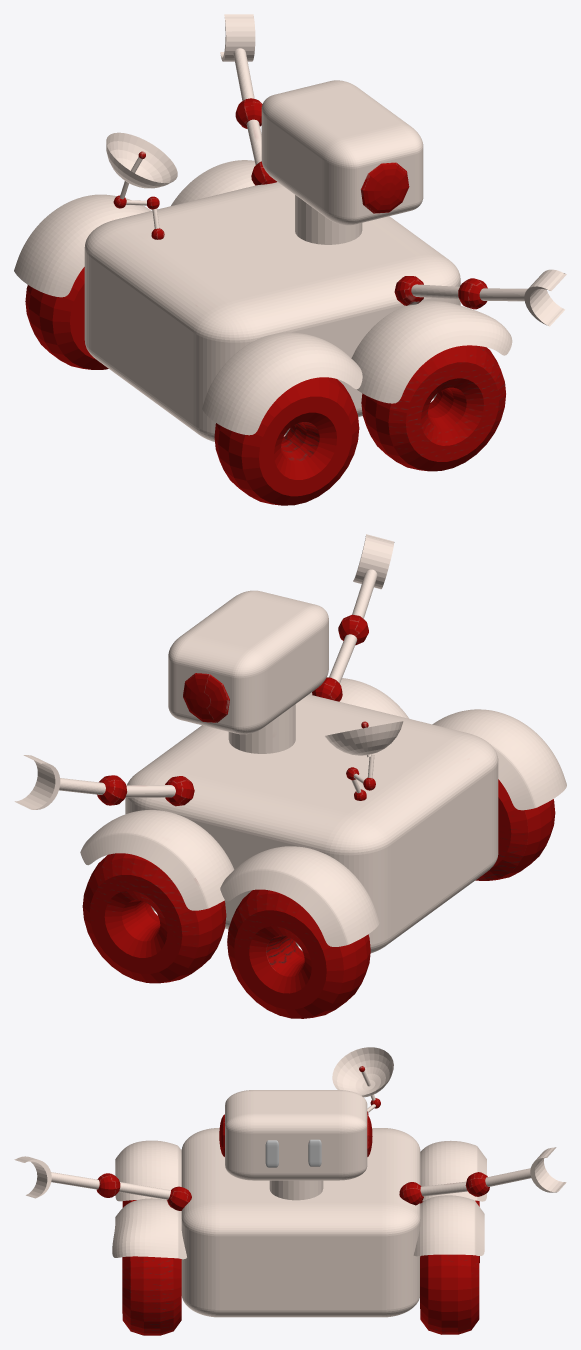
File: rover_red.obj
3 renders of one model, top to bottom at view 1: azimuth 30°, elevation 25°; view 2: azimuth 150°, elevation 25°; view 3: azimuth 270°, elevation 25°, orthographic. The views are drawn at different scales.
Visible parts, largest first — view 1: Body_Rover_Baked_Textures; view 2: Body_Rover_Baked_Textures; view 3: Body_Rover_Baked_Textures, Body_.
Part boxes in pixels (x1=…): Body_Rover_Baked_Textures: x1=14, y1=14, x2=566, y2=505; Body_Rover_Baked_Textures: x1=14, y1=534, x2=566, y2=1018; Body_Rover_Baked_Textures: x1=14, y1=1047, x2=566, y2=1335; Body_: x1=265, y1=1139, x2=321, y2=1167.
Size of the model in its own units: 2.14 by 2.01 by 4.43.
